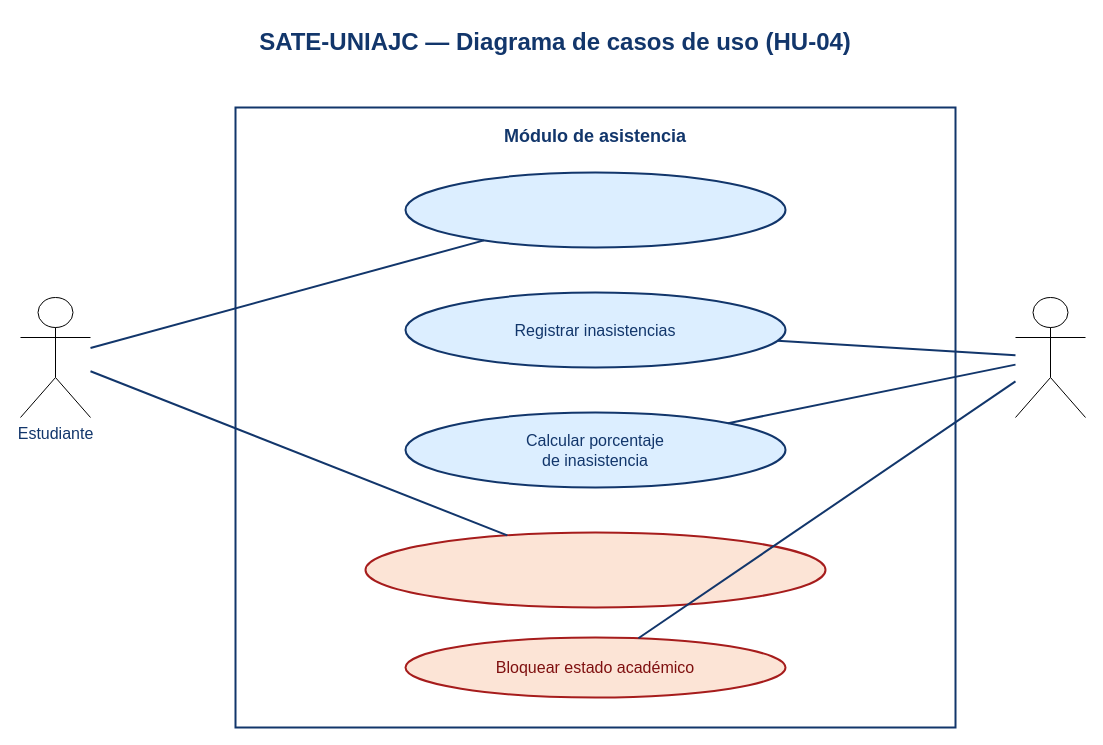
This 1103x745 diagram has some shape labels left out. The centre of each missing label's shape, as x and y in pixels:
"Consultar porcentaje de inasistencia" goes at pixel 595 209.
"Docente" goes at pixel 1050 357.
"Generar alerta roja al alcanzar el 15% de inasistencias" goes at pixel 595 569.
